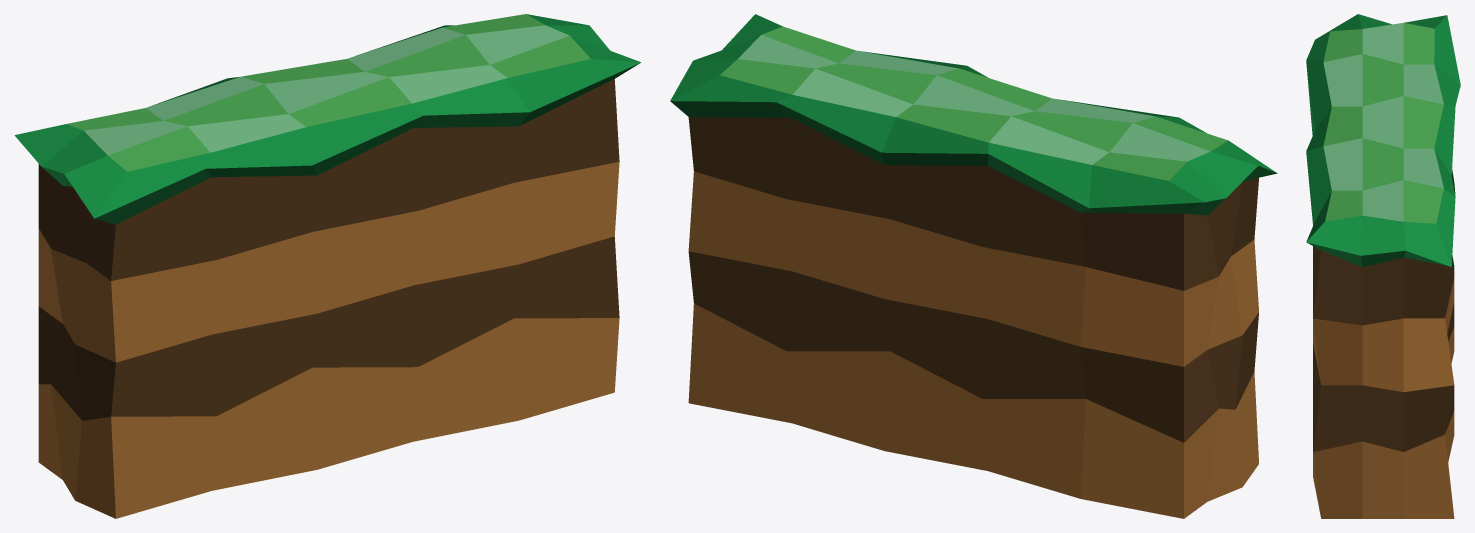
Rendered from wall.fbx.
3 renders of one model, left to right at view 1: azimuth 30°, elevation 25°; view 2: azimuth 150°, elevation 25°; view 3: azimuth 270°, elevation 25°, orthographic. The views are drawn at different scales.
Parts seen in each view (by area): view 1: Cube; view 2: Cube; view 3: Cube.
Part boxes in pixels (x1=…): Cube: x1=14, y1=14, x2=640, y2=518; Cube: x1=670, y1=14, x2=1277, y2=518; Cube: x1=1306, y1=14, x2=1460, y2=518.
Bounding box in the file's own units: 441 × 264 × 125.
